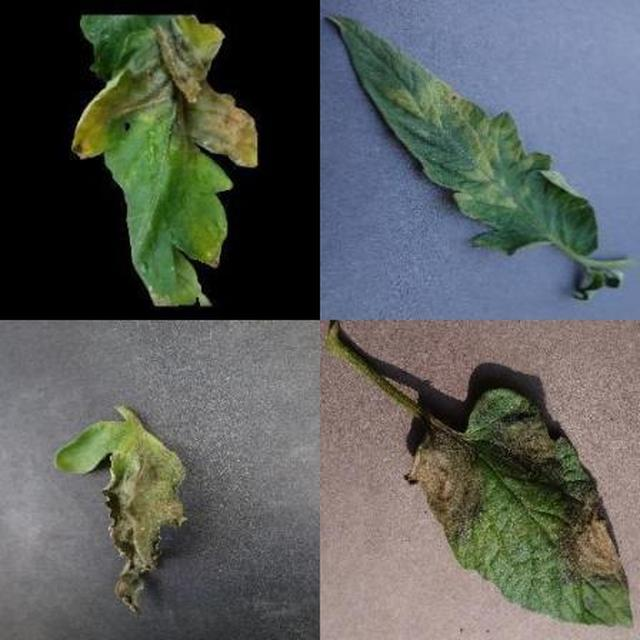Late Blight Leaf: (176, 193, 640, 640)
